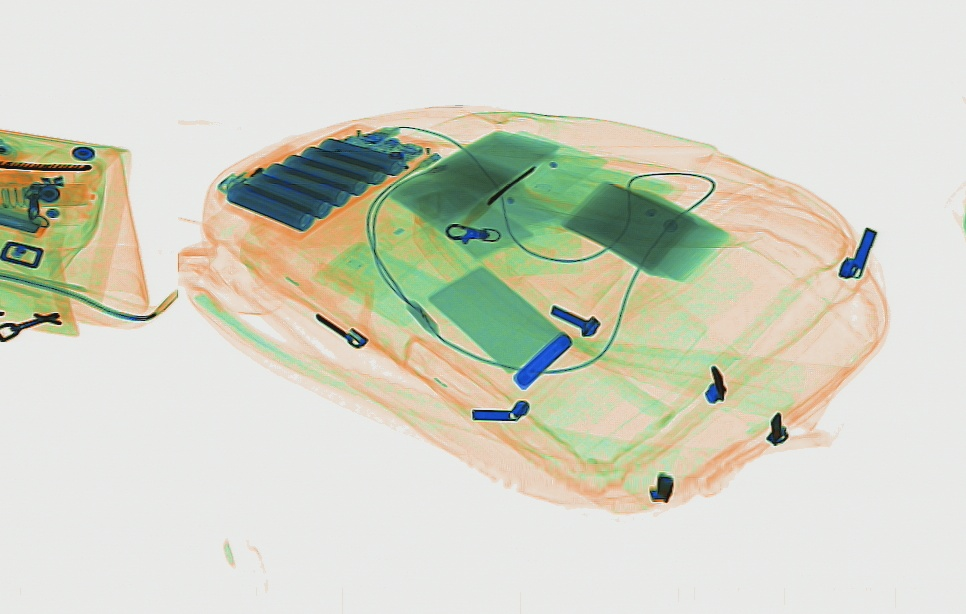powerbank: (217, 121, 441, 238)
